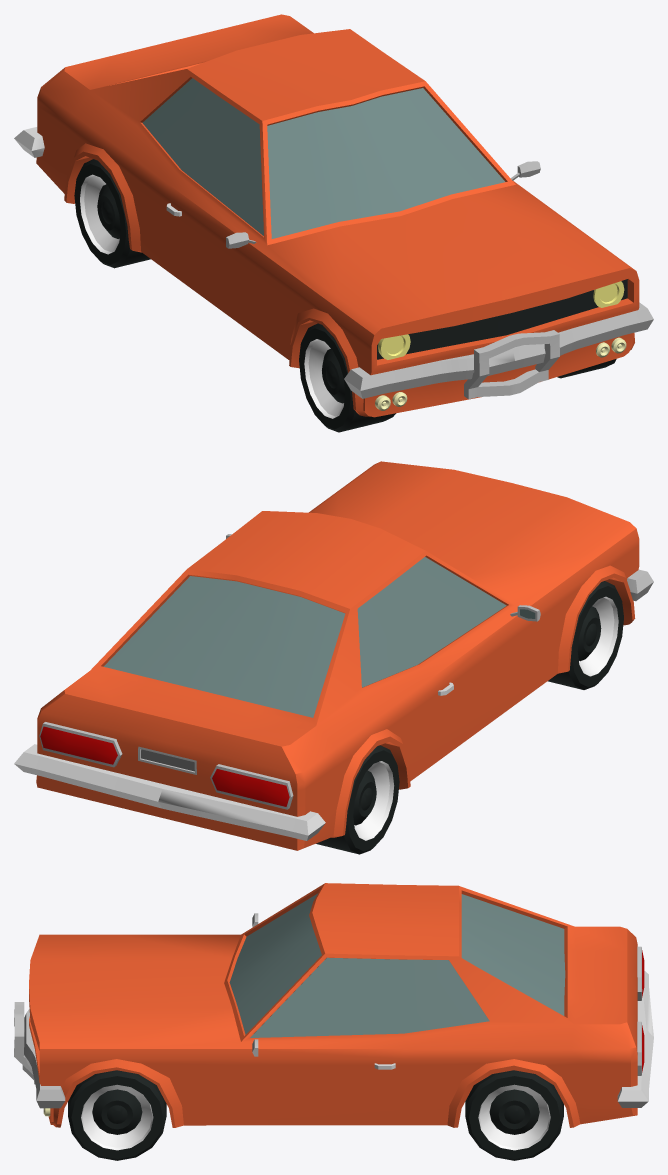
File: car_1.dae
3 renders of one model, top to bottom at view 1: azimuth 30°, elevation 25°; view 2: azimuth 150°, elevation 25°; view 3: azimuth 270°, elevation 25°, orthographic. The views are drawn at different scales.
Parts seen in each view (by area): view 1: car2, whell, whell.001; view 2: car2, whell.001, whell; view 3: car2, whell.002, whell.003.
Boxes of the visible parts, x1,y1,x2,y2 form: car2: [14, 14, 653, 417]; whell: [299, 323, 395, 432]; whell.001: [74, 159, 150, 268]; car2: [14, 461, 653, 850]; whell.001: [316, 745, 399, 854]; whell: [548, 581, 623, 689]; car2: [14, 883, 653, 1127]; whell.002: [465, 1070, 563, 1160]; whell.003: [68, 1070, 166, 1160].
Bounding box in the file's own units: 2.43 × 1.61 × 4.88.
Materials: 1 (1 with a texture image).
